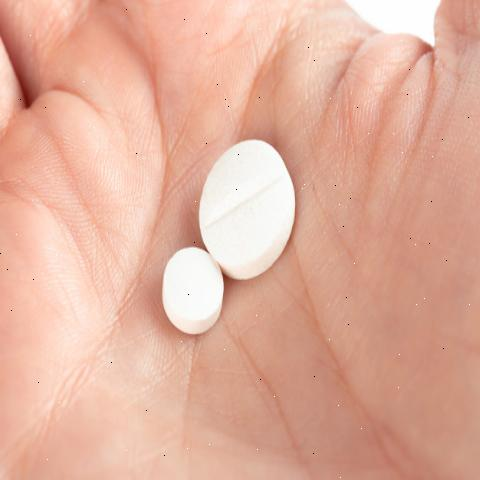Pill: (196, 88, 310, 290), (138, 244, 220, 356)
